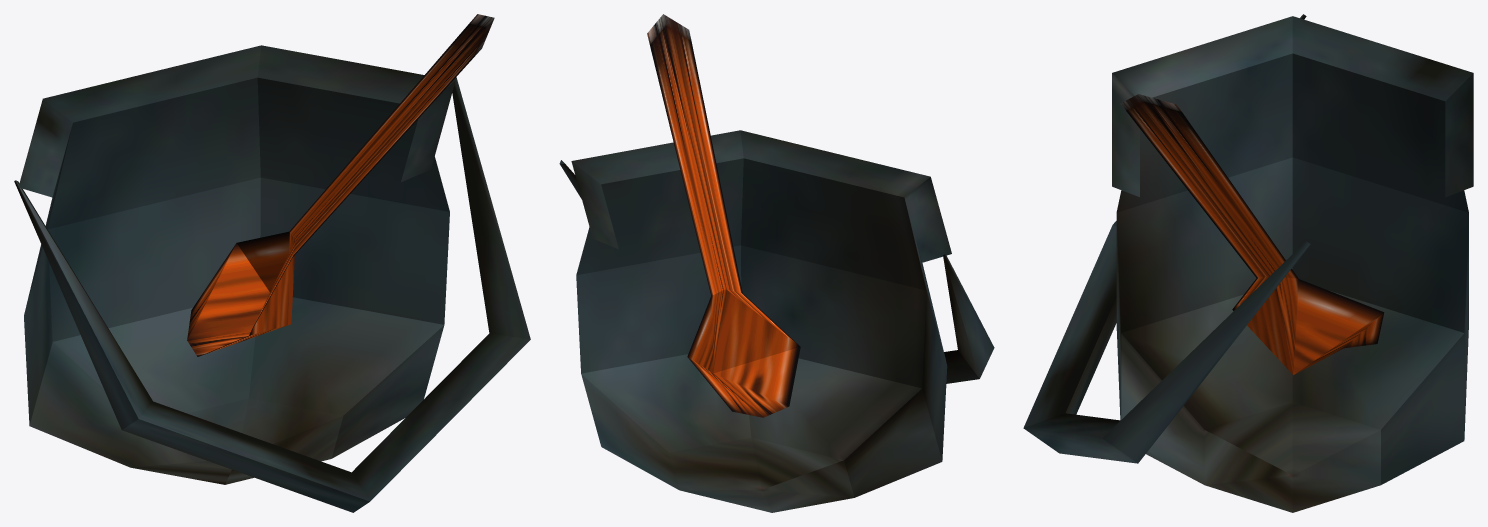
File: SuppenTopf_2292.glb
The picture shows the model from 3 angles, left to right: view 1: azimuth 30°, elevation 25°; view 2: azimuth 150°, elevation 25°; view 3: azimuth 270°, elevation 25°; orthographic projection. The views are drawn at different scales.
Visible parts, largest first — view 1: pSphereShape17, pTorusShape8, pPlaneShape28; view 2: pSphereShape17, pPlaneShape28, pTorusShape8; view 3: pSphereShape17, pTorusShape8, pPlaneShape28.
Part boxes in pixels (x1,y1,x2,y2): pSphereShape17: (18,45,455,484); pTorusShape8: (14,77,530,512); pPlaneShape28: (187,14,494,356); pSphereShape17: (571,130,951,512); pPlaneShape28: (647,14,800,417); pTorusShape8: (559,160,994,383); pSphereShape17: (1112,16,1473,512); pTorusShape8: (1023,14,1310,463); pPlaneShape28: (1120,94,1384,374).
Size of the model in its own units: 0.1663 by 0.161 by 0.1375.
Materials: 3 (3 with a texture image).
